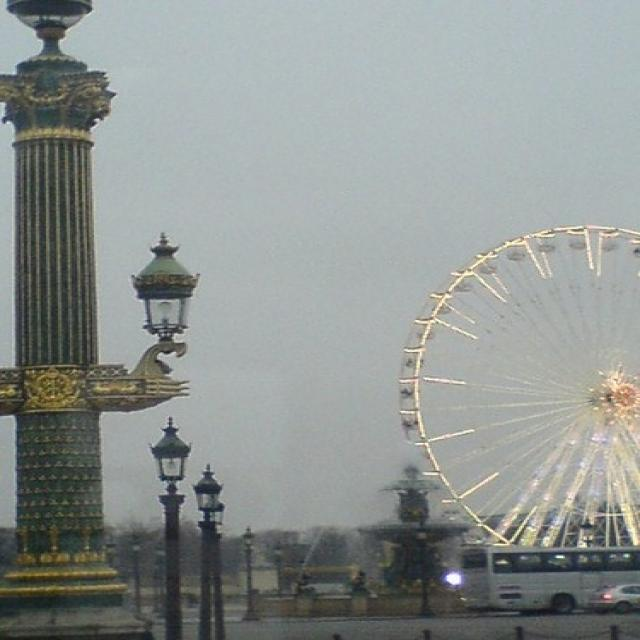bus: (459, 544, 638, 613)
car: (586, 581, 638, 613)
